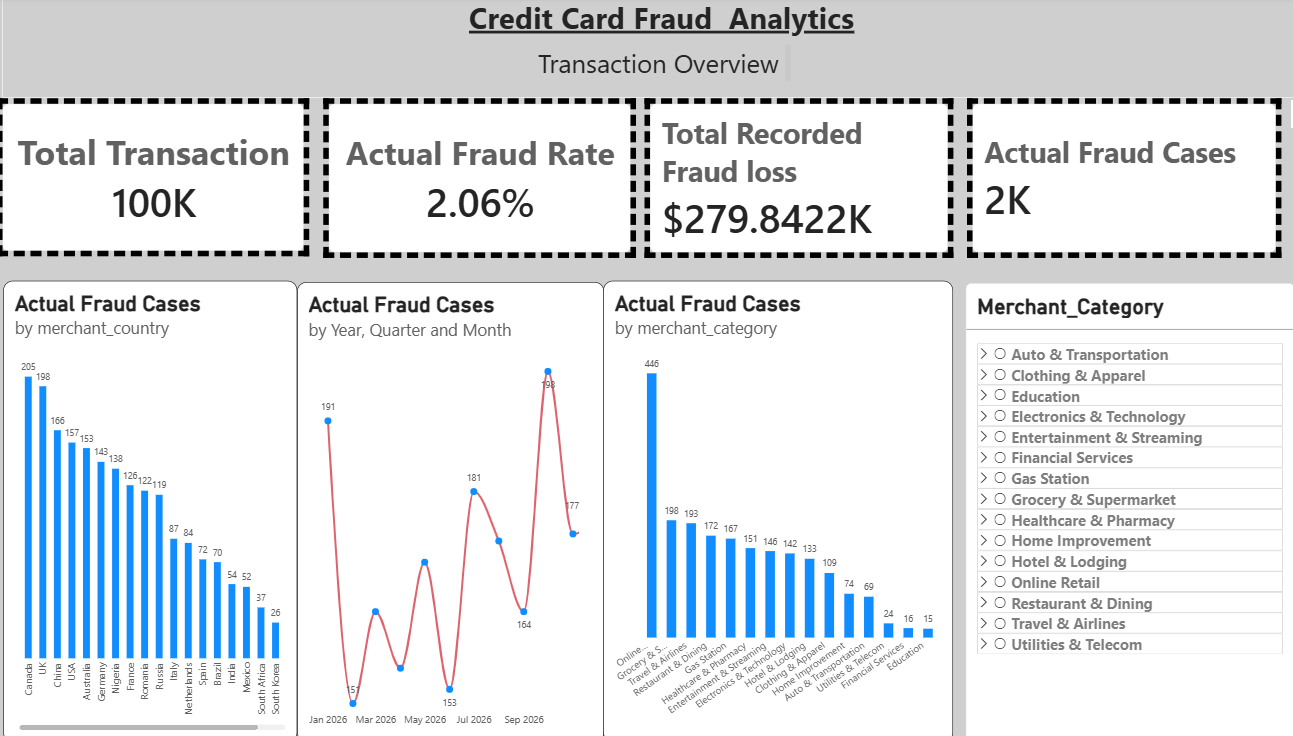

Layout of this report page (visuals, bound fields, positions):
{"tool":"powerbi","page":{"name":"Fraud Overview","canvas":[1920,1080],"ordinal":0},"visuals":[{"type":"textbox","box":[7.8,0,1910.1,146.3],"z":0},{"type":"textbox","box":[783.1,69,365.4,59.7],"z":1},{"type":"cardVisual","fields":{"Data":["cleaned_transactions.Total Transactoion"]},"box":[0,146.3,452,229.9],"z":2},{"type":"cardVisual","fields":{"Data":["cleaned_transactions.Actual Fraud Rate"]},"box":[471.7,147.3,453.1,231.2],"z":3},{"type":"cardVisual","fields":{"Data":["cleaned_transactions.Total Recorded Fraud loss"]},"box":[937.8,147.3,447.5,231.2],"z":4},{"type":"cardVisual","fields":{"Data":["cleaned_transactions.Actual Fraud Cases"]},"box":[1403.6,146.7,455.1,231.8],"z":5},{"type":"lineChart","fields":{"Category":["cleaned_transactions.transaction_datetime.Variation.Date Hierarchy.Year","cleaned_transactions.transaction_datetime.Variation.Date Hierarchy.Quarter","cleaned_transactions.transaction_datetime.Variation.Date Hierarchy.Month","cleaned_transactions.transaction_datetime.Variation.Date Hierarchy.Day"],"Y":["cleaned_transactions.Actual Fraud Cases"]},"box":[433.9,412.6,444.5,665.7],"z":6},{"type":"clusteredColumnChart","fields":{"Category":["cleaned_transactions.merchant_category"],"Y":["cleaned_transactions.Actual Fraud Cases"]},"box":[878.3,410.5,506.2,667.8],"z":7},{"type":"clusteredColumnChart","fields":{"Category":["cleaned_transactions.merchant_country"],"Y":["cleaned_transactions.Actual Fraud Cases"]},"box":[8.5,410.5,425.3,667.8],"z":8},{"type":"listSlicer","title":"Merchant_Category","fields":{"Values":["cleaned_transactions.merchant_category","cleaned_transactions.transaction_datetime.Variation.Date Hierarchy.Year","cleaned_transactions.transaction_datetime.Variation.Date Hierarchy.Quarter","cleaned_transactions.transaction_datetime.Variation.Date Hierarchy.Month","cleaned_transactions.transaction_datetime.Variation.Date Hierarchy.Day","cleaned_transactions.transaction_channel"]},"box":[1403.2,415.2,476.4,661.8],"z":9}]}

Visuals, with their boxes in screenshot pixels (x1, y1, x2, y2), scaled from the page's 1920x1080 canvas onto the 1293x736 screenshot:
textbox: detection(5, 0, 1292, 100)
textbox: detection(527, 47, 773, 88)
cardVisual - cleaned_transactions.Total Transactoion: detection(0, 100, 304, 256)
cardVisual - cleaned_transactions.Actual Fraud Rate: detection(318, 100, 623, 258)
cardVisual - cleaned_transactions.Total Recorded Fraud loss: detection(632, 100, 933, 258)
cardVisual - cleaned_transactions.Actual Fraud Cases: detection(945, 100, 1252, 258)
lineChart - cleaned_transactions.transaction_datetime.Variation.Date Hierarchy.Year x cleaned_transactions.transaction_datetime.Variation.Date Hierarchy.Quarter: detection(292, 281, 592, 735)
clusteredColumnChart - cleaned_transactions.merchant_category x cleaned_transactions.Actual Fraud Cases: detection(591, 280, 932, 735)
clusteredColumnChart - cleaned_transactions.merchant_country x cleaned_transactions.Actual Fraud Cases: detection(6, 280, 292, 735)
"Merchant_Category" listSlicer: detection(945, 283, 1266, 734)
